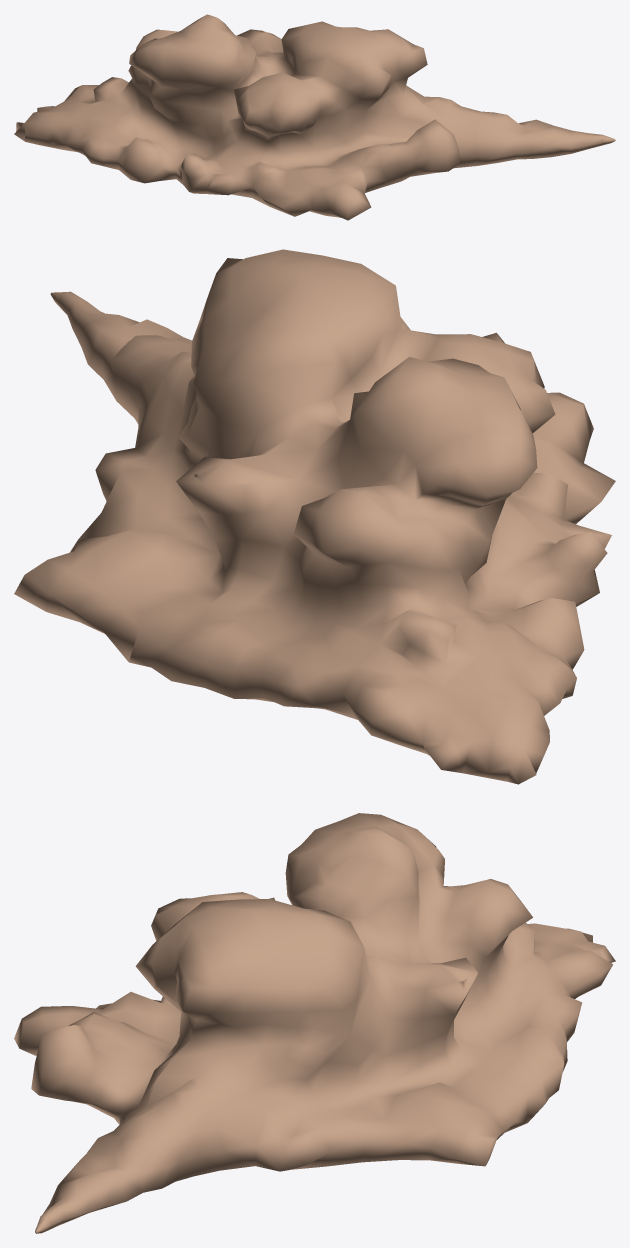
File: Cumulo_BaseMeshNoUv.fbx
The picture shows the model from 3 angles, top to bottom: view 1: azimuth 30°, elevation 25°; view 2: azimuth 150°, elevation 25°; view 3: azimuth 270°, elevation 25°; orthographic projection. The views are drawn at different scales.
Parts seen in each view (by area): view 1: mesh-retopo 3; view 2: mesh-retopo 3; view 3: mesh-retopo 3.
Part boxes in pixels (<box>): mesh-retopo 3: <box>14,14,615,220</box>; mesh-retopo 3: <box>14,249,615,784</box>; mesh-retopo 3: <box>14,813,615,1233</box>.
Bounding box in the file's own units: 9.18 × 3.21 × 7.26.
